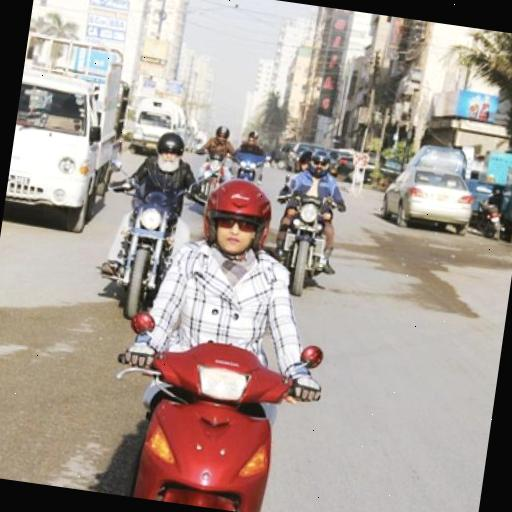helmet: (136, 170, 318, 512), (90, 112, 230, 326), (260, 130, 362, 297), (185, 114, 243, 196), (227, 111, 273, 188)
